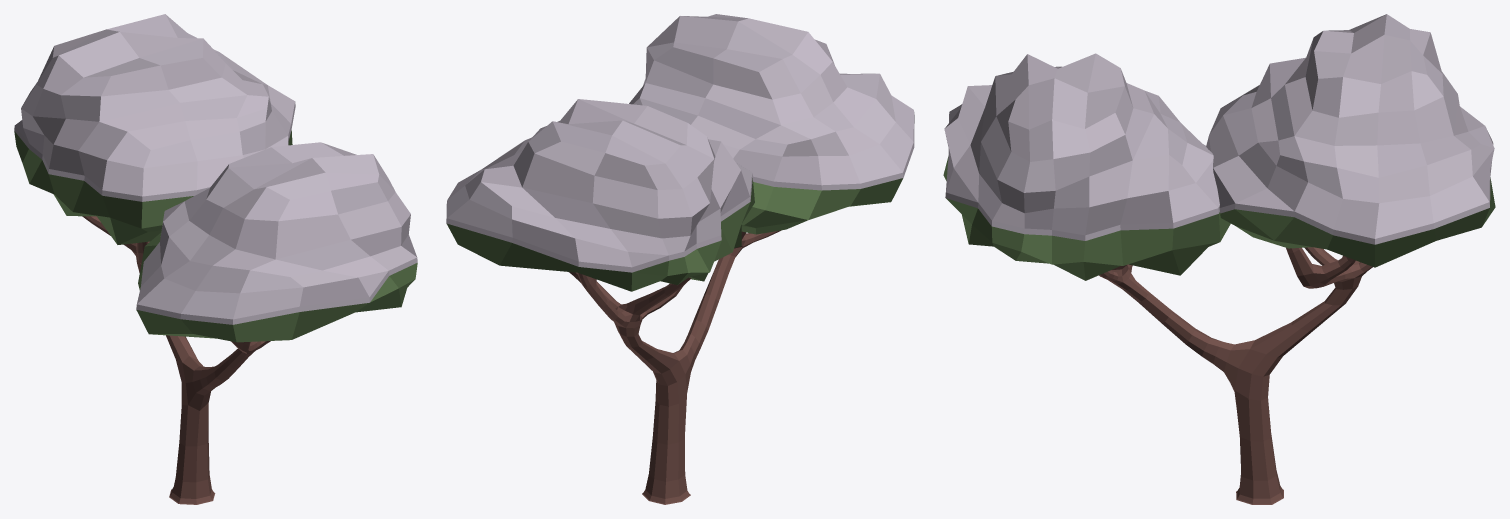
Rendered from commontree_snow_1.glb.
3 views of the same model, side by side, from view 1: azimuth 30°, elevation 25°; view 2: azimuth 150°, elevation 25°; view 3: azimuth 270°, elevation 25° (orthographic). The views are drawn at different scales.
Parts seen in each view (by area): view 1: CommonTree_Snow_1; view 2: CommonTree_Snow_1; view 3: CommonTree_Snow_1.
Boxes of the visible parts, box(x1,y1,x2,y2) form: CommonTree_Snow_1: box(14, 14, 417, 504); CommonTree_Snow_1: box(446, 14, 914, 504); CommonTree_Snow_1: box(943, 14, 1495, 504).
Bounding box in the file's own units: 4.53 × 6.02 × 6.66.
